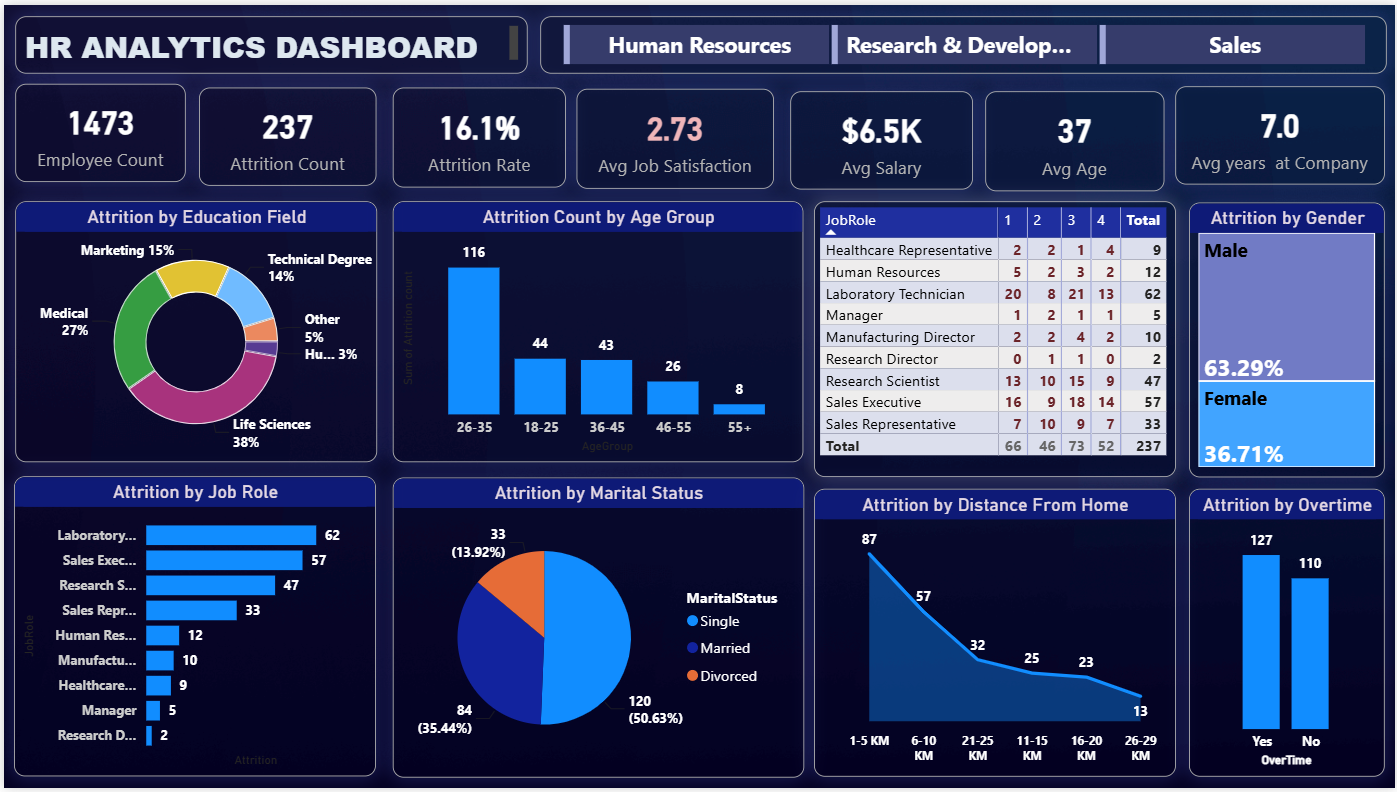

The page's visual inventory and layout, read from the dashboard file:
{"tool":"powerbi","page":{"name":"Page 1","canvas":[1280,720],"ordinal":0},"visuals":[{"type":"textbox","box":[10,10,471.2,52.5],"z":0},{"type":"card","fields":{"Values":["CountNonNull(HR_Analytics.EmployeeCount)"]},"box":[9.8,72.4,157.1,90.8],"z":1000},{"type":"card","fields":{"Values":["Sum(HR_Analytics.Attrition count)"]},"box":[179.1,76.1,163.2,90.8],"z":2000},{"type":"card","fields":{"Values":["Avg(HR_Analytics.JobSatisfaction)"]},"box":[526.4,77.3,181.6,92],"z":3000},{"type":"card","fields":{"Values":["Avg(HR_Analytics.MonthlyIncome)"]},"box":[722.7,79.8,168.1,90.8],"z":4000},{"type":"card","fields":{"Values":["Avg(HR_Analytics.Age)"]},"box":[901.8,79.8,164.4,92],"z":5000},{"type":"card","fields":{"Values":["HR_Analytics.Avg_Years"]},"box":[1077.3,74.8,192.6,90.8],"z":6000},{"type":"card","fields":{"Values":["HR_Analytics.Attrition Rate"]},"box":[357.1,76.1,159.5,92],"z":7000},{"type":"slicer","fields":{"Values":["HR_Analytics.Department"]},"box":[493,10,778,52.5],"z":8000},{"type":"donutChart","fields":{"Y":["Sum(HR_Analytics.Attrition count)"],"Category":["HR_Analytics.EducationField"]},"box":[10,180,332.5,240],"z":9000},{"type":"columnChart","fields":{"Category":["HR_Analytics.AgeGroup"],"Y":["Sum(HR_Analytics.Attrition count)"]},"box":[357.5,180,377.5,240],"z":10000},{"type":"clusteredBarChart","fields":{"Category":["HR_Analytics.JobRole"],"Y":["Sum(HR_Analytics.Attrition count)"]},"box":[8.8,433.8,332.5,276.2],"z":11000},{"type":"pieChart","fields":{"Category":["HR_Analytics.MaritalStatus"],"Y":["Sum(HR_Analytics.Attrition count)"]},"box":[358,434,378,276],"z":12000},{"type":"pivotTable","fields":{"Rows":["HR_Analytics.JobRole"],"Columns":["HR_Analytics.JobSatisfaction"],"Values":["Sum(HR_Analytics.Attrition count)"]},"box":[745,180,332.5,253.8],"z":13000},{"type":"areaChart","title":"Attrition by Distance From Home","fields":{"Category":["HR_Analytics.Distance_From_Home"],"Y":["Sum(HR_Analytics.Attrition count)"]},"box":[745,445,332.5,265],"z":14000},{"type":"treemap","title":"Attrition  by Gender","fields":{"Group":["HR_Analytics.Gender"],"Values":["HR_Analytics.Attrition_Percentage"]},"box":[1090,181.2,180,252.5],"z":15000},{"type":"columnChart","title":"Attrition by OverTime","fields":{"Category":["HR_Analytics.OverTime"],"Y":["Sum(HR_Analytics.Attrition count)"]},"box":[1090,445,180,265],"z":16000}]}

Visuals, with their boxes in screenshot pixels (x1, y1, x2, y2), scaled from the page's 1280x720 canvas onto the 1397x792 screenshot:
textbox: {"x1": 11, "y1": 11, "x2": 525, "y2": 69}
card - CountNonNull(HR_Analytics.EmployeeCount): {"x1": 11, "y1": 80, "x2": 182, "y2": 180}
card - Sum(HR_Analytics.Attrition count): {"x1": 195, "y1": 84, "x2": 374, "y2": 184}
card - Avg(HR_Analytics.JobSatisfaction): {"x1": 575, "y1": 85, "x2": 773, "y2": 186}
card - Avg(HR_Analytics.MonthlyIncome): {"x1": 789, "y1": 88, "x2": 972, "y2": 188}
card - Avg(HR_Analytics.Age): {"x1": 984, "y1": 88, "x2": 1164, "y2": 189}
card - HR_Analytics.Avg_Years: {"x1": 1176, "y1": 82, "x2": 1386, "y2": 182}
card - HR_Analytics.Attrition Rate: {"x1": 390, "y1": 84, "x2": 564, "y2": 185}
slicer - HR_Analytics.Department: {"x1": 538, "y1": 11, "x2": 1387, "y2": 69}
donutChart - Sum(HR_Analytics.Attrition count) x HR_Analytics.EducationField: {"x1": 11, "y1": 198, "x2": 374, "y2": 462}
columnChart - HR_Analytics.AgeGroup x Sum(HR_Analytics.Attrition count): {"x1": 390, "y1": 198, "x2": 802, "y2": 462}
clusteredBarChart - HR_Analytics.JobRole x Sum(HR_Analytics.Attrition count): {"x1": 10, "y1": 477, "x2": 372, "y2": 781}
pieChart - HR_Analytics.MaritalStatus x Sum(HR_Analytics.Attrition count): {"x1": 391, "y1": 477, "x2": 803, "y2": 781}
pivotTable - HR_Analytics.JobRole x HR_Analytics.JobSatisfaction: {"x1": 813, "y1": 198, "x2": 1176, "y2": 477}
"Attrition by Distance From Home" areaChart: {"x1": 813, "y1": 490, "x2": 1176, "y2": 781}
"Attrition  by Gender" treemap: {"x1": 1190, "y1": 199, "x2": 1386, "y2": 477}
"Attrition by OverTime" columnChart: {"x1": 1190, "y1": 490, "x2": 1386, "y2": 781}
